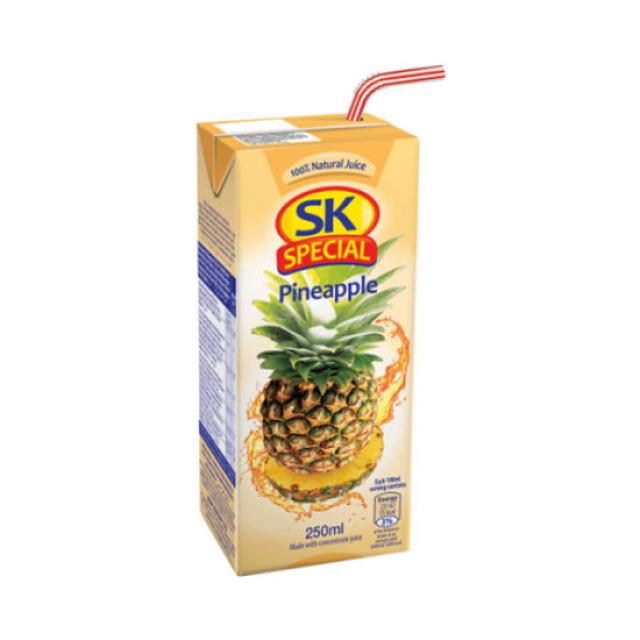non_white_jug: (145, 97, 445, 596)
